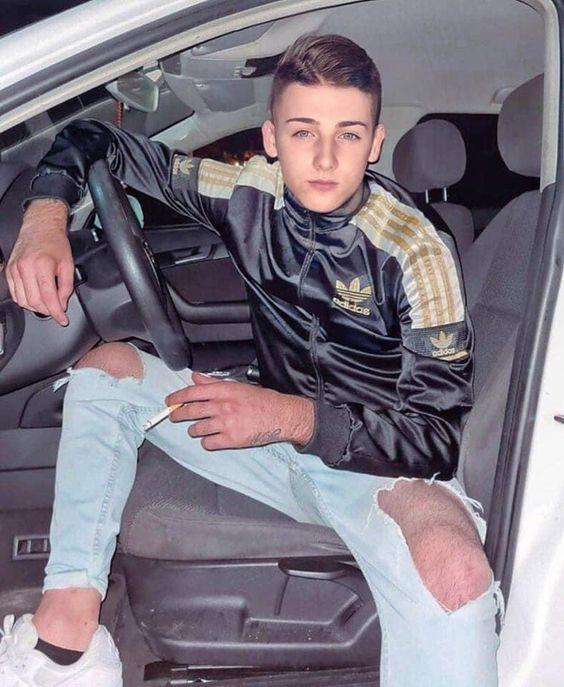cigarette: (143, 402, 184, 431)
